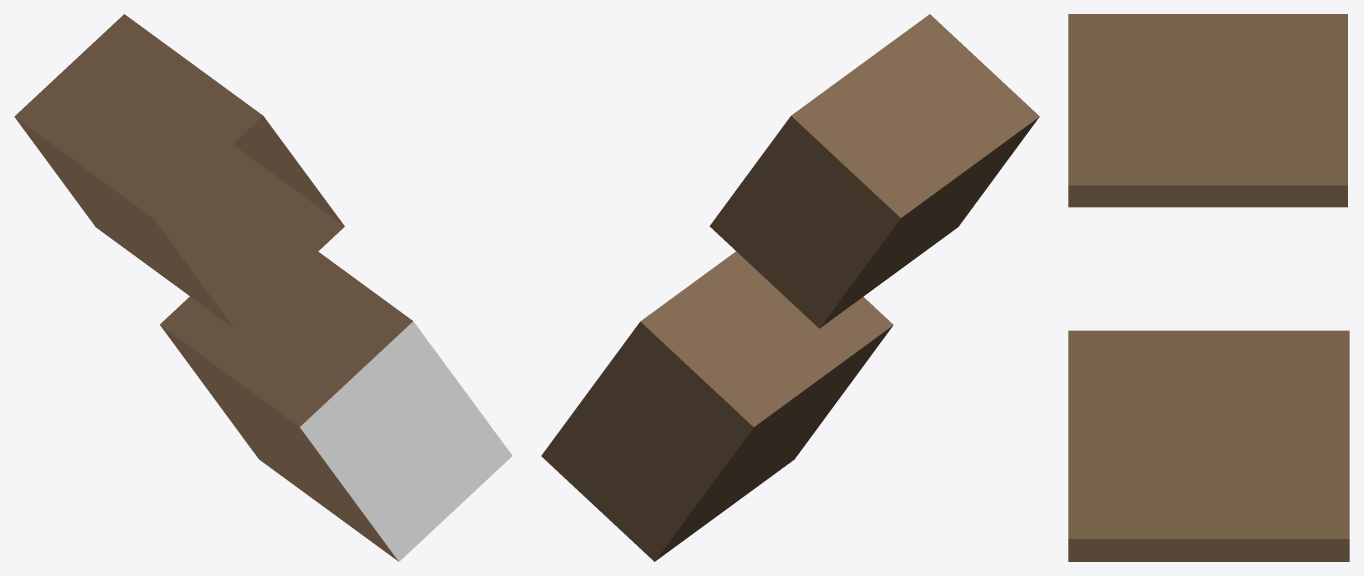
3 views of the same model, side by side, from view 1: azimuth 30°, elevation 25°; view 2: azimuth 150°, elevation 25°; view 3: azimuth 270°, elevation 25° (orthographic).
Parts seen in each view (by area): view 1: City_PC-26242; view 2: City_PC-26242; view 3: City_PC-26242.
Boxes of the visible parts, x1=… form: City_PC-26242: x1=14, y1=14, x2=512, y2=561; City_PC-26242: x1=541, y1=14, x2=1039, y2=561; City_PC-26242: x1=1068, y1=14, x2=1349, y2=561.
Size of the model in its own units: 2202 by 2806 by 1487.
